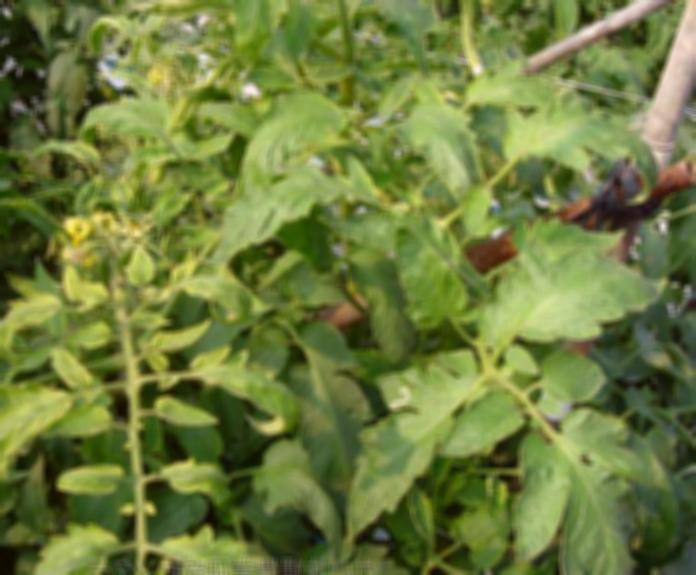Tomato leaf yellow virus: (517, 391, 681, 575), (334, 357, 481, 547), (464, 235, 638, 356), (188, 171, 358, 275), (490, 94, 681, 169), (218, 92, 353, 190), (195, 340, 299, 436), (0, 389, 74, 496), (443, 61, 597, 112), (4, 511, 114, 575), (216, 0, 297, 83), (75, 89, 177, 145), (163, 529, 283, 575), (37, 396, 124, 454), (0, 283, 58, 367), (151, 453, 234, 509), (146, 390, 221, 439), (47, 464, 130, 499), (111, 242, 159, 293)
